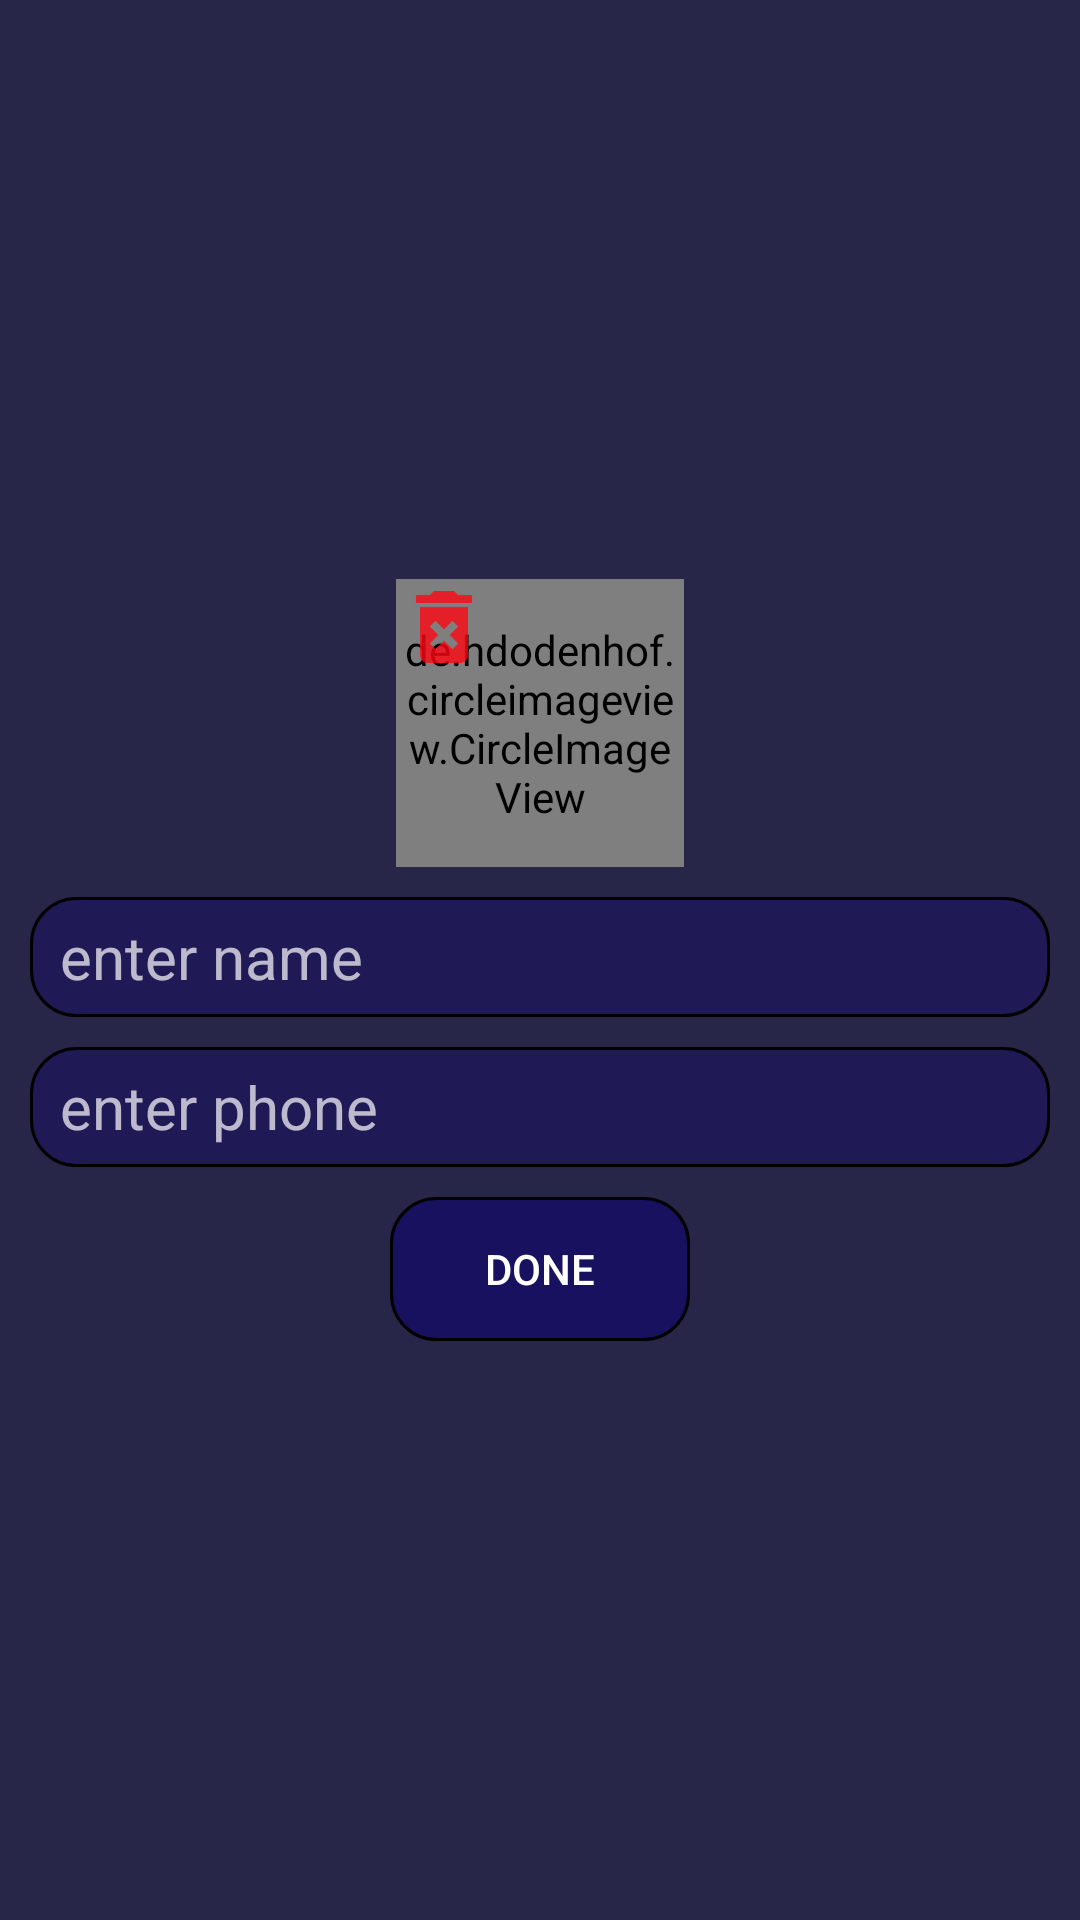

Where to tap for icons on this 1080*1920 app screen, as (x,y):
delete: (445,629)
